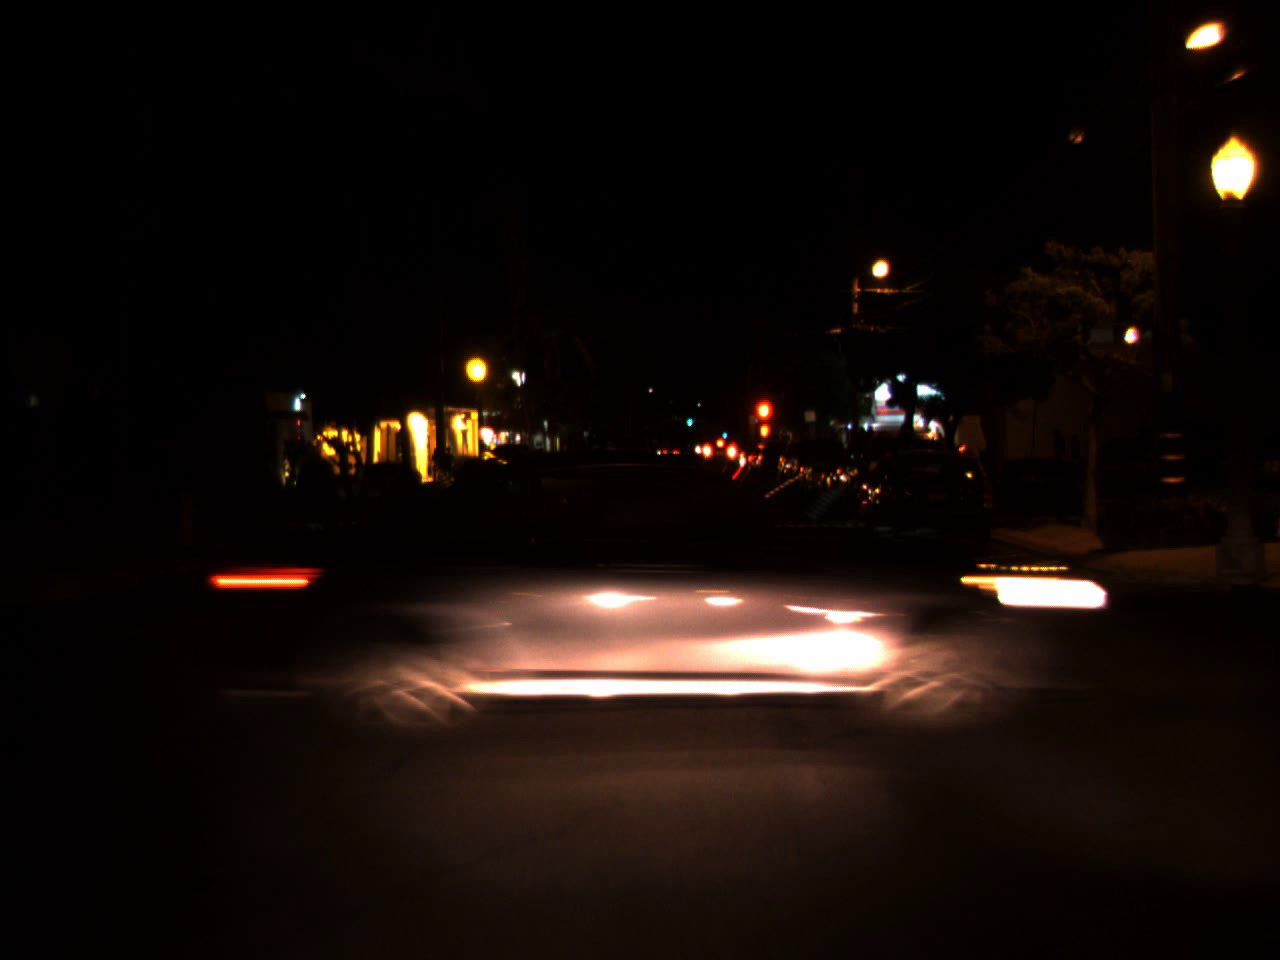go: (685, 412, 694, 427), (721, 428, 728, 440)
stop: (752, 397, 776, 445)
